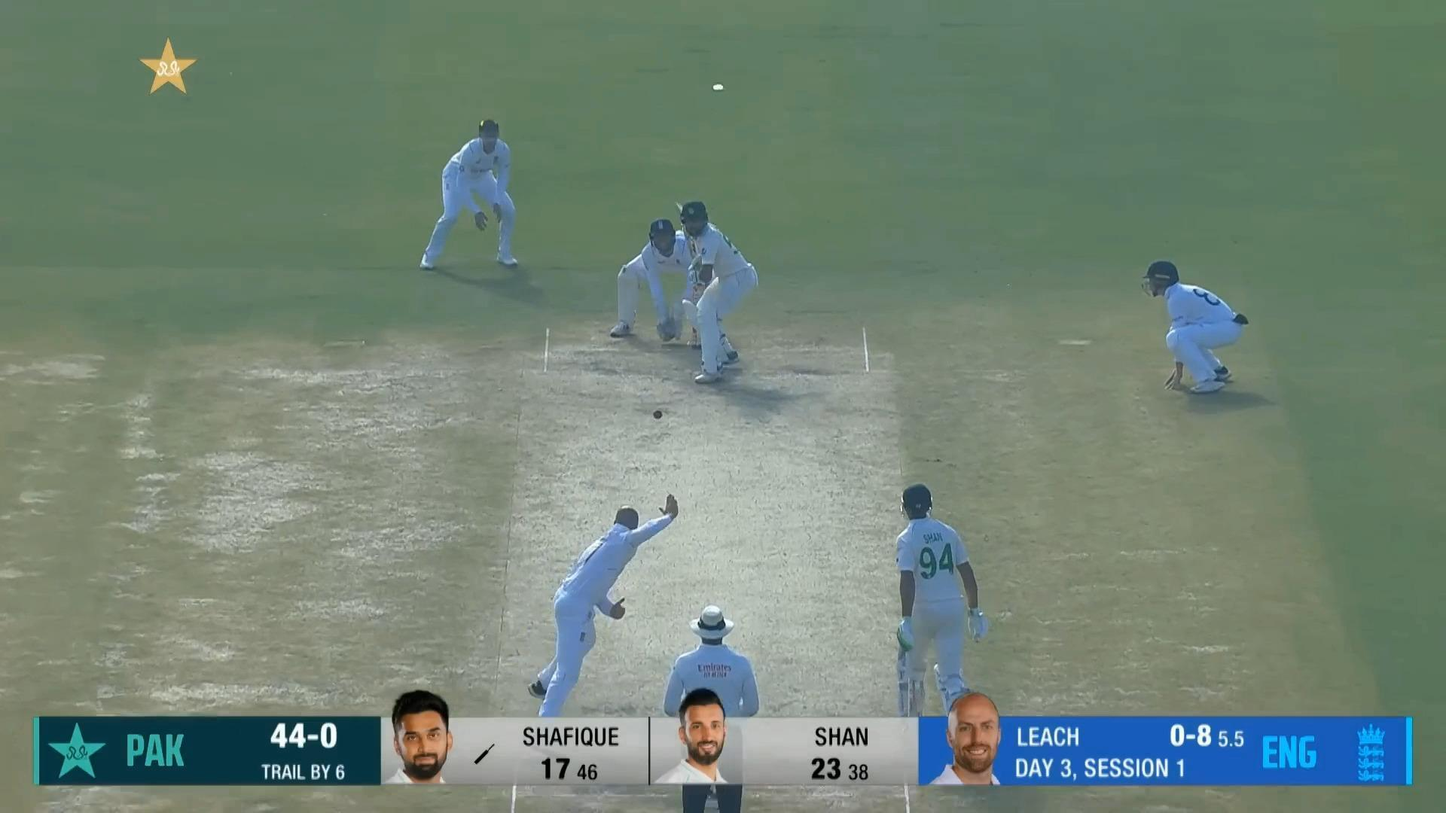BM 1: (675, 200, 759, 384)
BO: (526, 491, 683, 765)
